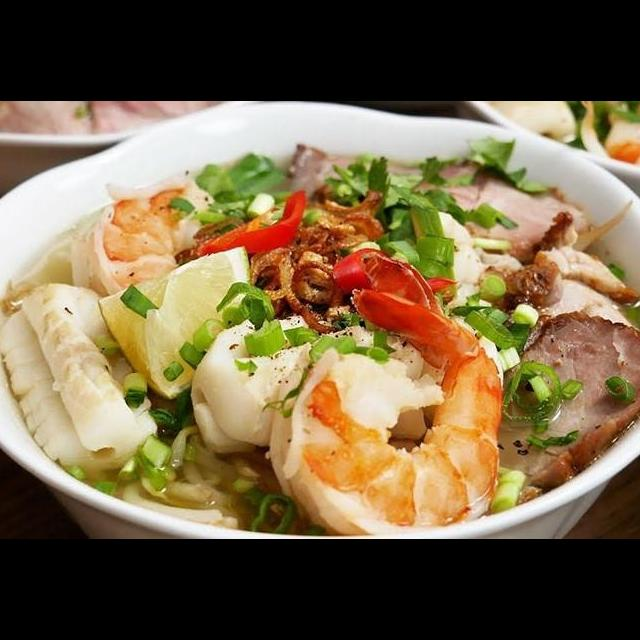muc: (184, 309, 502, 460), (0, 278, 162, 477)
thit heo: (495, 302, 640, 495), (399, 144, 595, 261)
tom: (285, 284, 508, 535), (87, 165, 232, 304)
